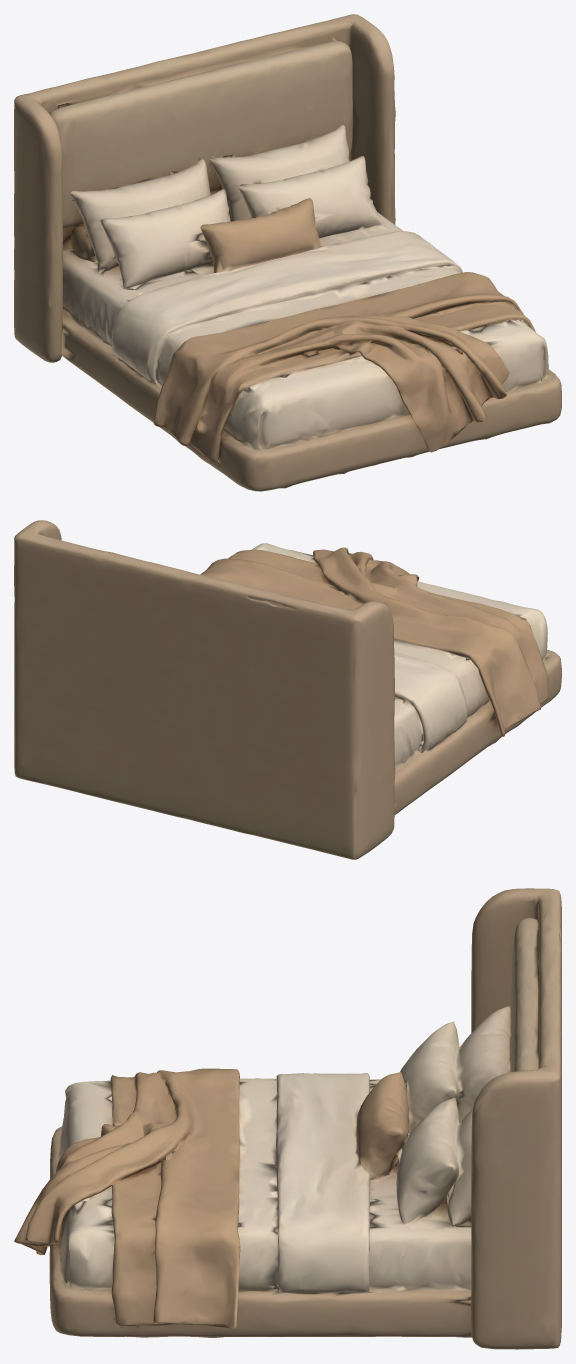
The model's file is 10-cama.glb.
3 views of the same model, one above another, from view 1: azimuth 30°, elevation 25°; view 2: azimuth 150°, elevation 25°; view 3: azimuth 270°, elevation 25° (orthographic). The views are drawn at different scales.
Visible parts, largest first — view 1: tripo_node_2903aff1-b398-4949-bf96-fd58f36b287d; view 2: tripo_node_2903aff1-b398-4949-bf96-fd58f36b287d; view 3: tripo_node_2903aff1-b398-4949-bf96-fd58f36b287d.
Part boxes in pixels (x1,y1,x2,y2): tripo_node_2903aff1-b398-4949-bf96-fd58f36b287d: (14, 14, 561, 491); tripo_node_2903aff1-b398-4949-bf96-fd58f36b287d: (14, 520, 561, 859); tripo_node_2903aff1-b398-4949-bf96-fd58f36b287d: (14, 888, 561, 1349).
Bounding box in the file's own units: 0.8625 × 0.5559 × 1.
1 material, 1 textured.
